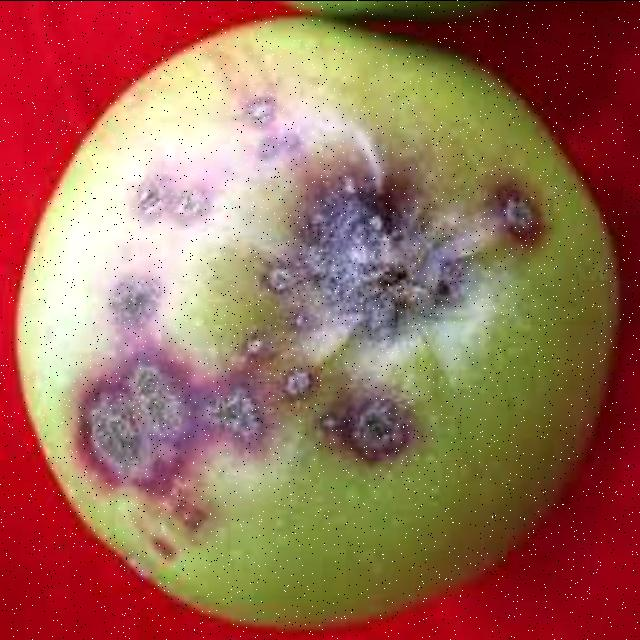SCAB: (0, 40, 602, 622)
